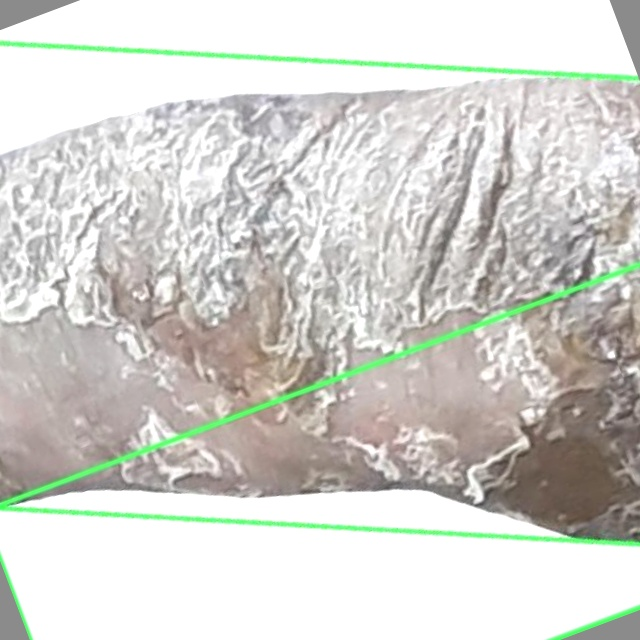Eczema: (0, 82, 639, 529), (0, 266, 639, 639)
